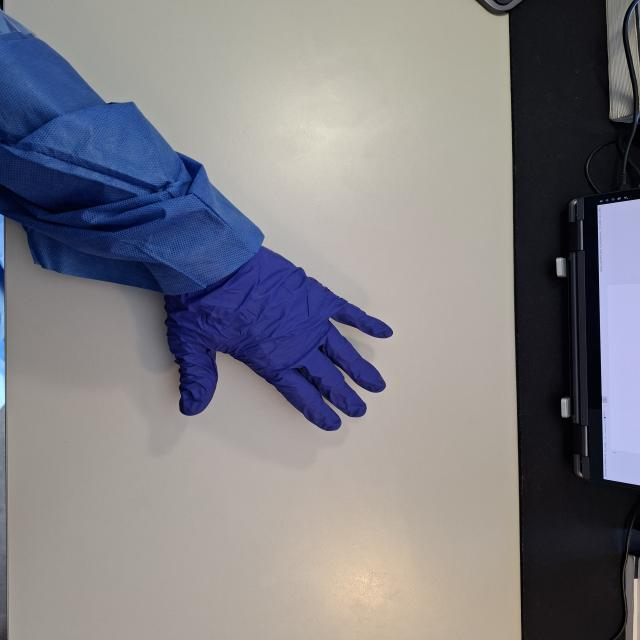glove_on: (160, 240, 396, 433)
